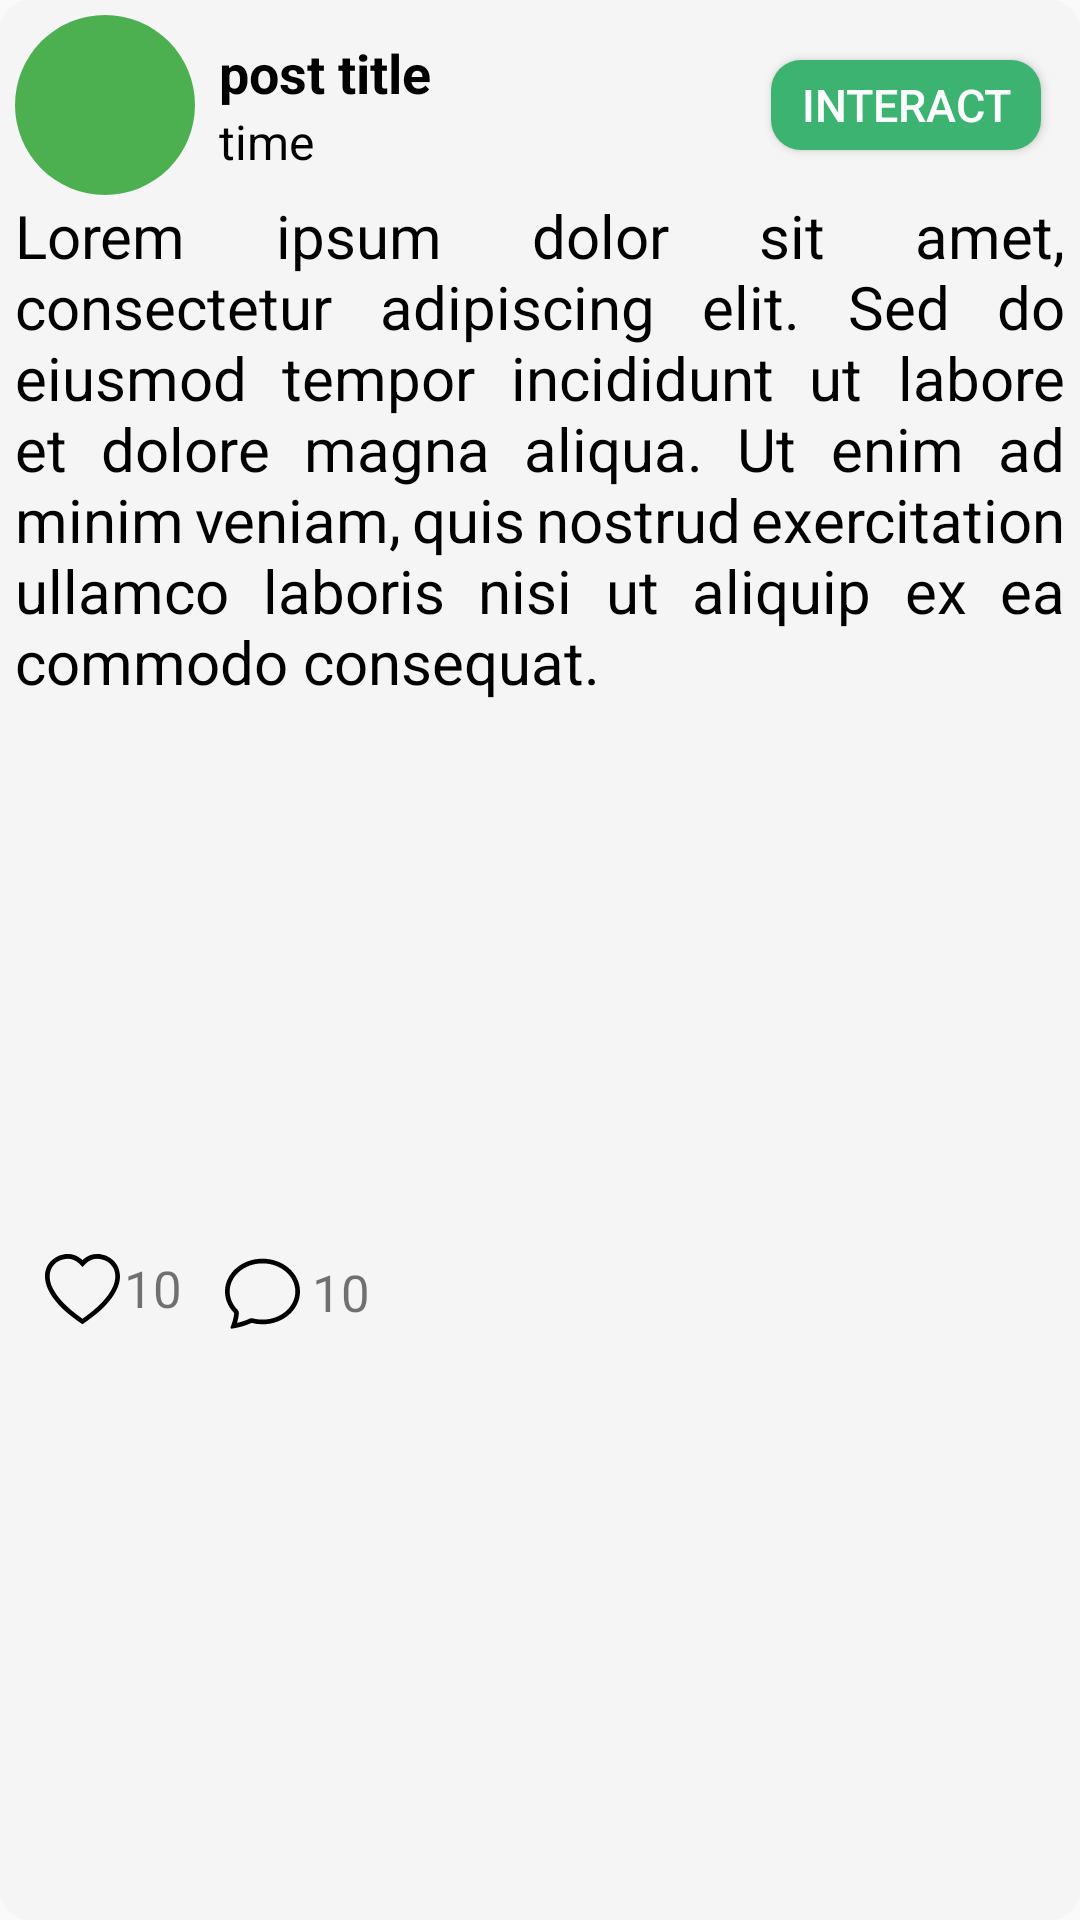

Locate icon controls on the screen. Image size 1080×1920, boxes as {"x1": x1, "y1": y1, "x2": x2, "y2": y2}.
chat: {"x1": 225, "y1": 1258, "x2": 300, "y2": 1329}
heart: {"x1": 45, "y1": 1254, "x2": 120, "y2": 1324}
